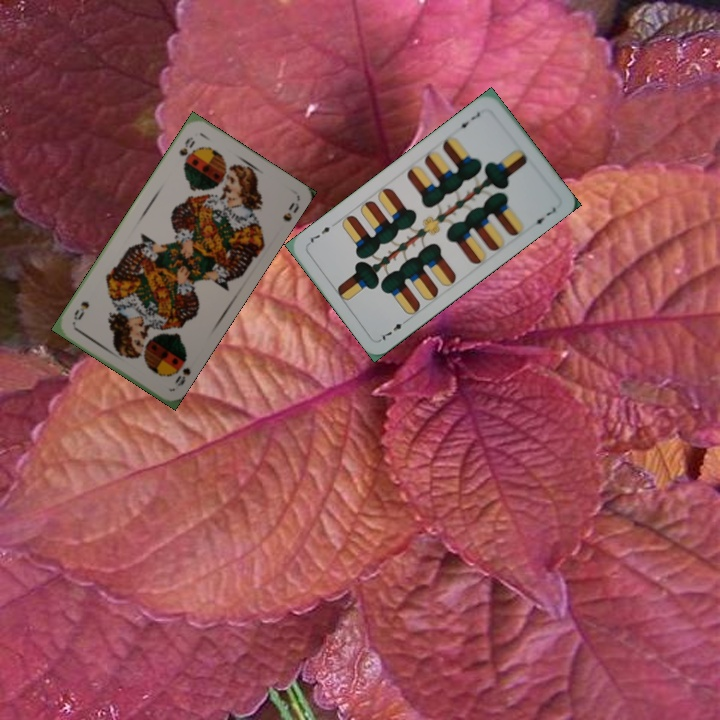E7: (376, 314, 411, 343), (453, 108, 483, 132)
SO: (175, 133, 198, 163), (171, 363, 193, 389)
